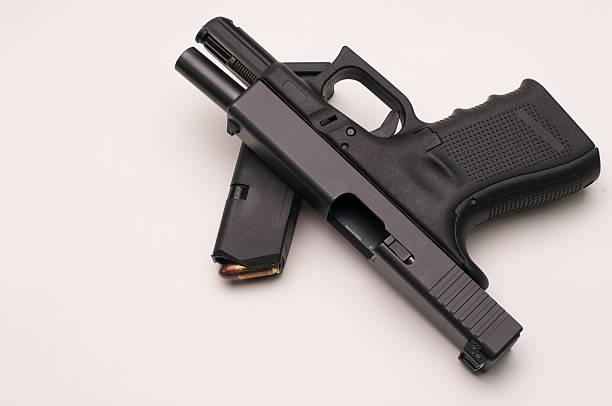weapon: (172, 16, 602, 375)
